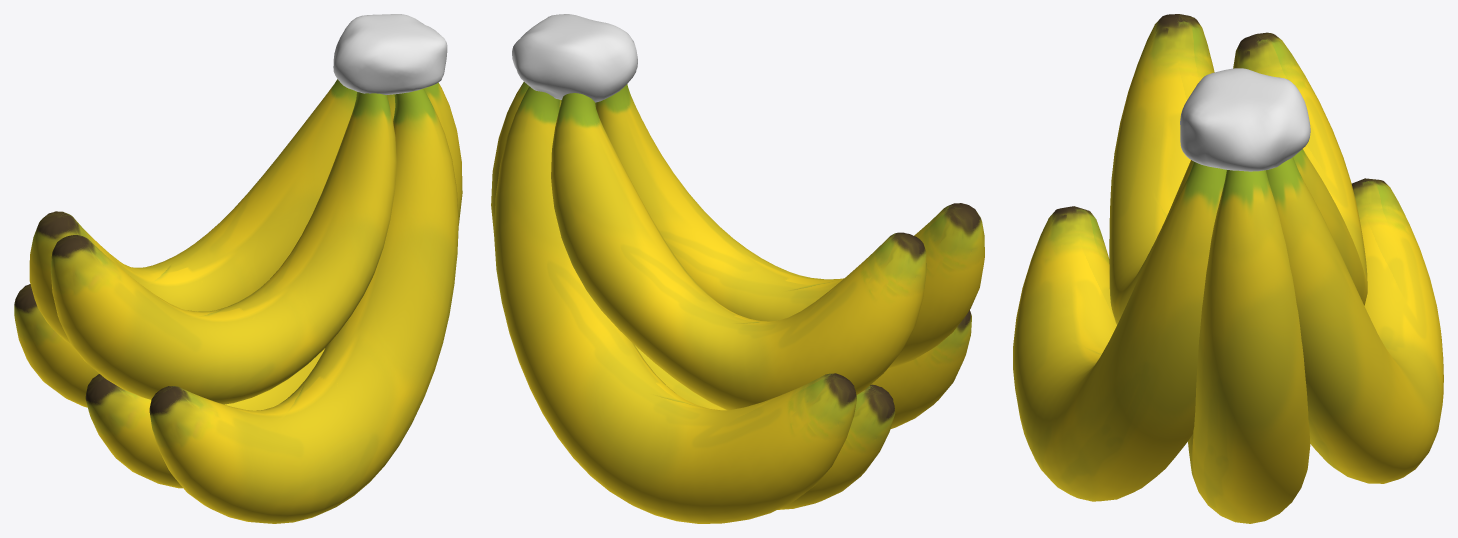
File: pisang (banyak).fbx
The picture shows the model from 3 angles, left to right: view 1: azimuth 30°, elevation 25°; view 2: azimuth 150°, elevation 25°; view 3: azimuth 270°, elevation 25°; orthographic projection. The views are drawn at different scales.
Visible parts, largest first — view 1: Torus.001, Torus.004, Torus.003, Torus, Icosphere, Torus.002; view 2: Torus.002, Torus.003, Torus.004, Icosphere, Torus, Torus.001; view 3: Torus.001, Torus.002, Torus, Torus.004, Icosphere, Torus.003.
Boxes of the visible parts, <box> form: Torus.001: <box>149,88,458,523</box>; Torus.004: <box>50,92,396,404</box>; Torus.003: <box>29,79,356,343</box>; Torus: <box>85,82,462,488</box>; Icosphere: <box>333,14,447,94</box>; Torus.002: <box>14,94,395,407</box>; Torus.002: <box>494,86,856,523</box>; Torus.003: <box>551,93,926,410</box>; Torus.004: <box>595,84,984,368</box>; Icosphere: <box>512,14,637,102</box>; Torus: <box>491,82,895,509</box>; Torus.001: <box>561,100,971,428</box>; Torus.001: <box>1013,161,1226,501</box>; Torus.002: <box>1266,157,1443,483</box>; Torus: <box>1188,170,1310,523</box>; Torus.004: <box>1109,14,1214,324</box>; Icosphere: <box>1180,68,1310,171</box>; Torus.003: <box>1233,32,1367,305</box>.
Size of the model in its own units: 245 by 226 by 174.
